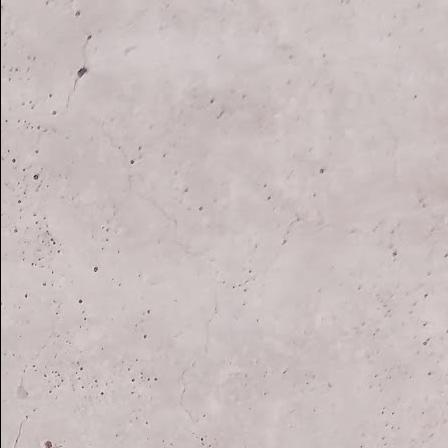crack: (86, 95, 249, 448), (53, 1, 96, 118)
